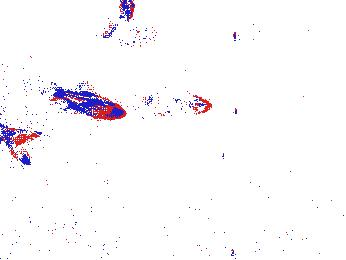X-ray fish: (118, 1, 137, 24)
red belly glassfish: (54, 85, 129, 123)
redtail glassfish: (140, 86, 216, 120), (101, 16, 161, 48)
